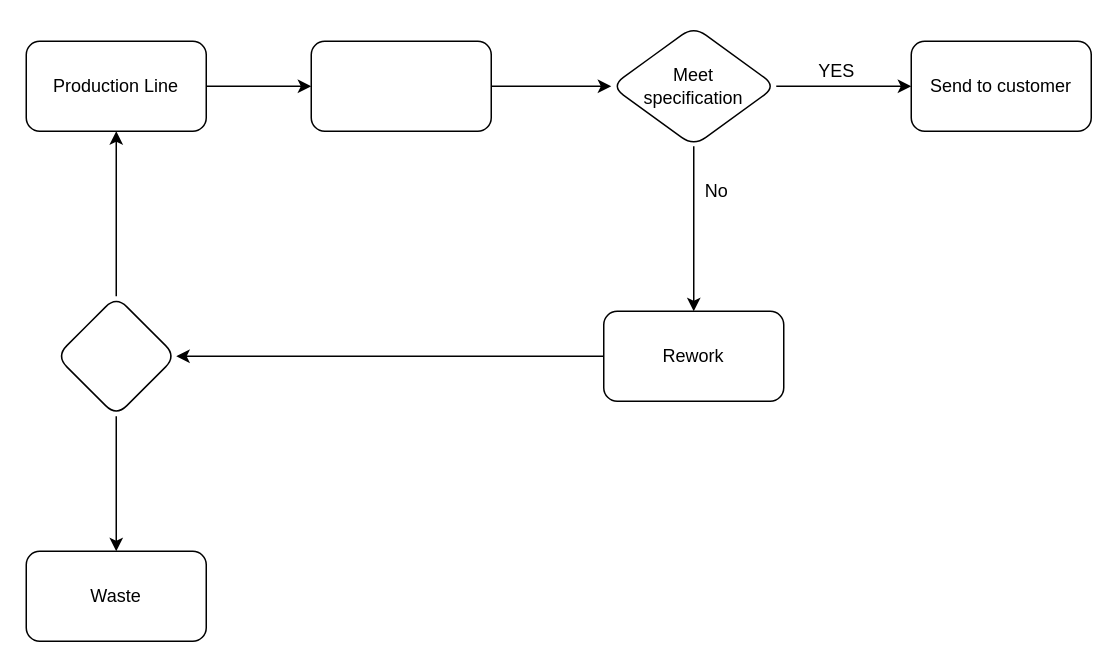
Image size: 1118x668. Some labels were removed from this diagram. Here are the shapes that lost their labels. From the top down, the centre of each, then its label:
At point 400,85: "Finished Product".
At point 115,355: "Managers decision".
